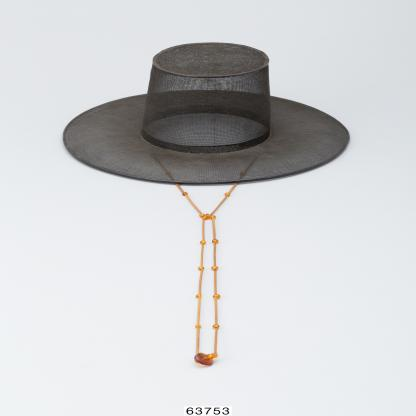hat: (57, 40, 358, 187)
